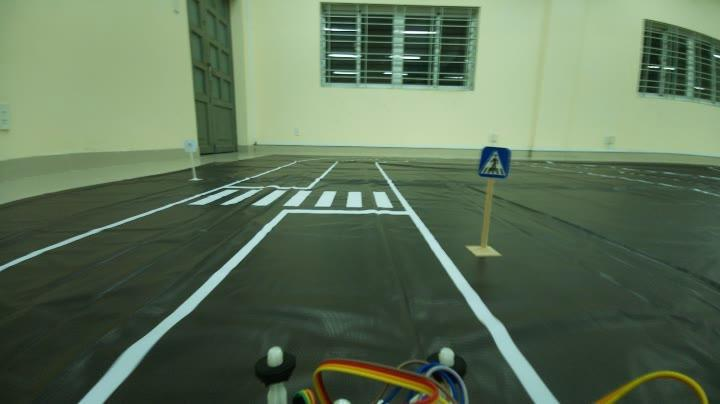crosswalk: (476, 140, 516, 188)
